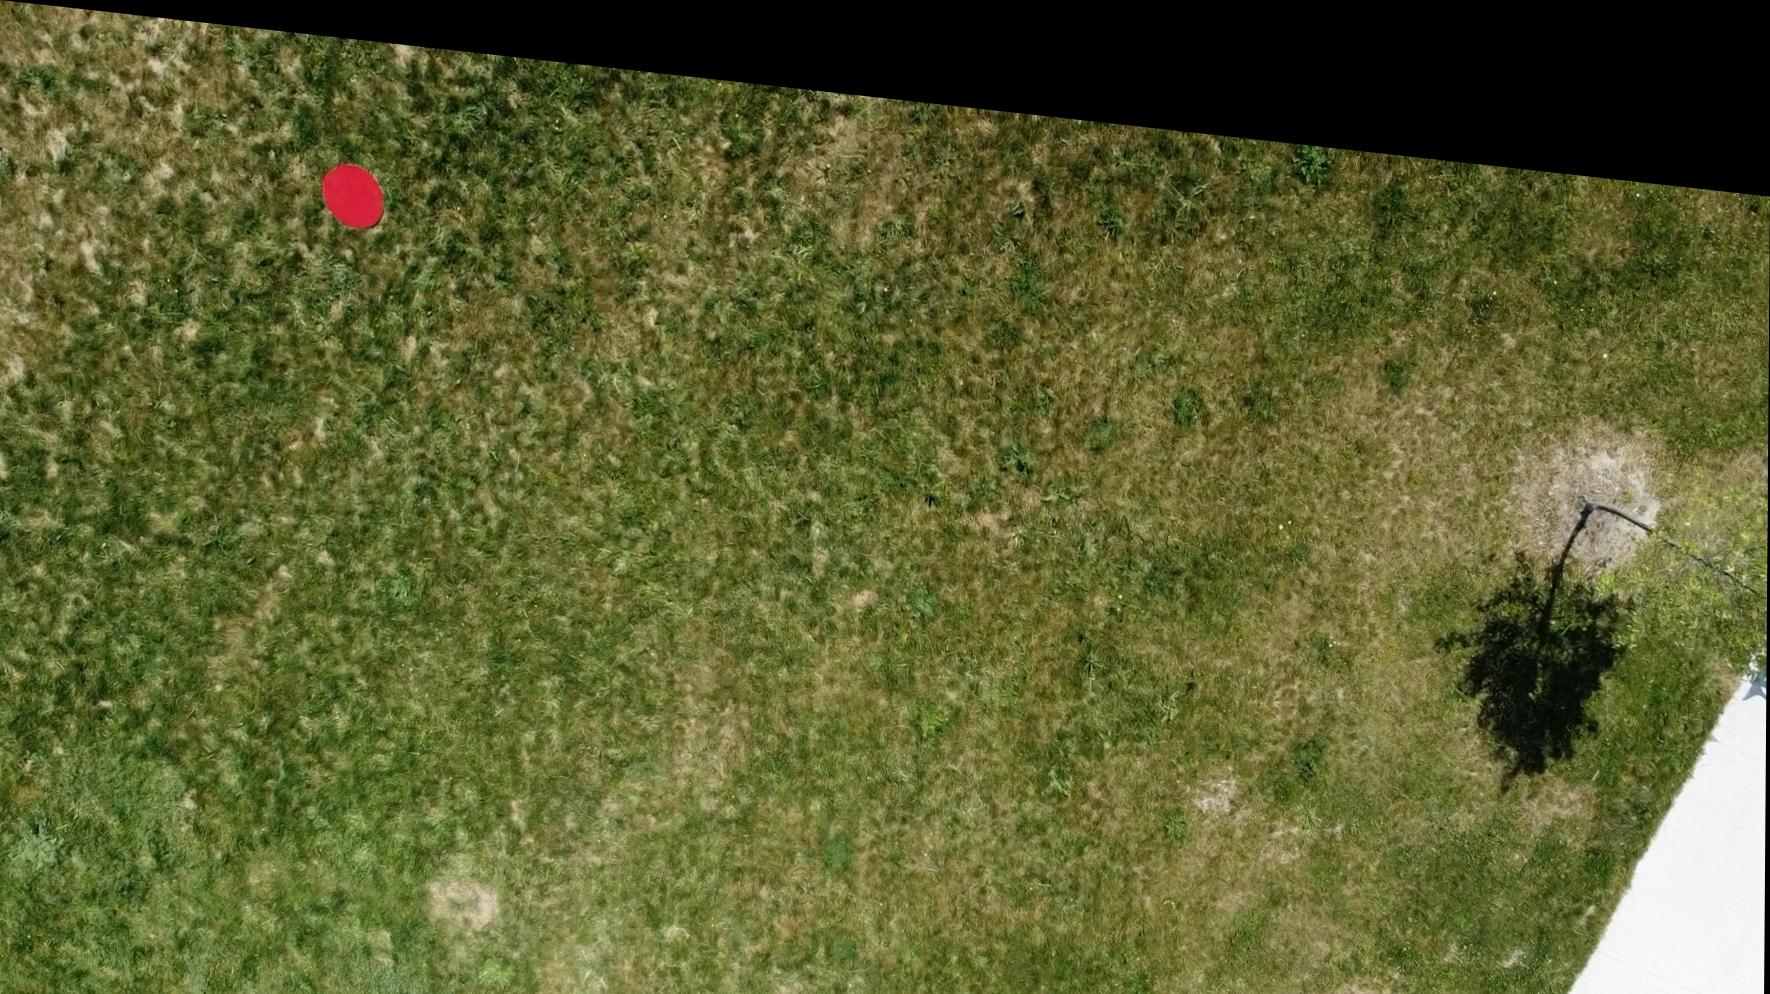Red: (319, 151, 389, 226)
